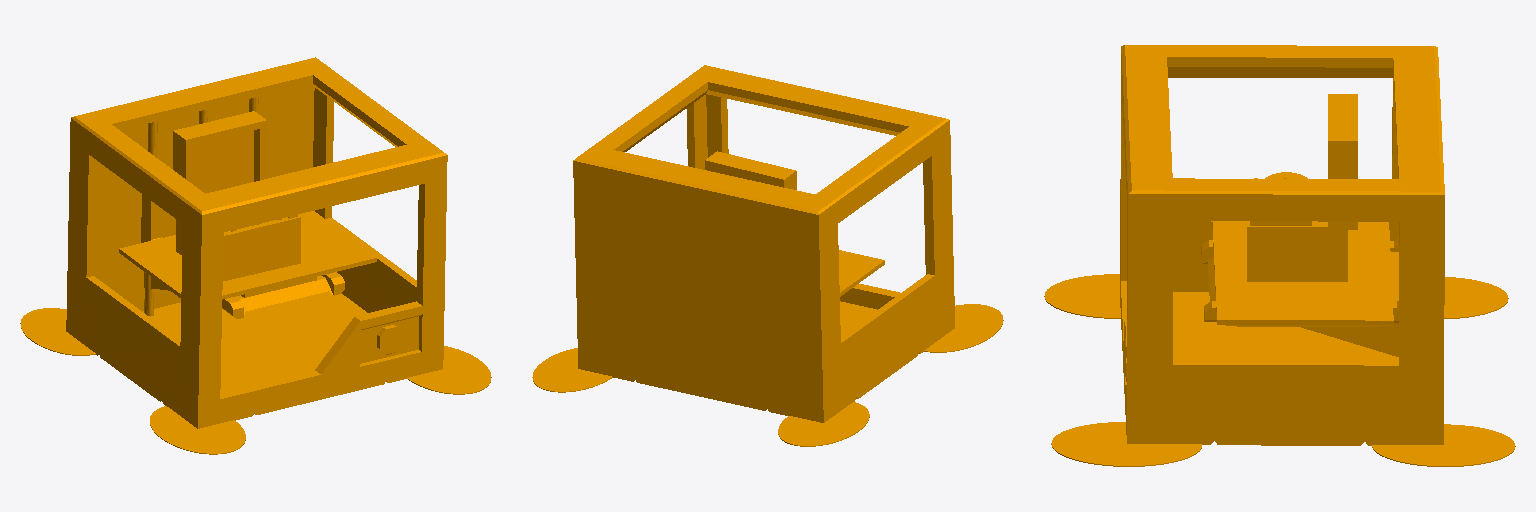
robot.urdf — apple:
<?xml version="1.0" encoding="utf-8"?>
<robot name="apple">
  <link name="base_link">
    <contact>
      <lateral_friction value="0.5"/>
      <rolling_friction value="0.0"/>
      <contact_cfm value="0.0"/>
      <contact_erp value="1.0"/>
    </contact>
    <inertial>
      <origin rpy="0 0 0" xyz="0 0 0"/>
      <mass value="0"/>
      <inertia ixx="0" ixy="0" ixz="0" iyy="0" iyz="0" izz="0"/>
    </inertial>
    <visual>
      <origin rpy="0 0 0" xyz="0 0 0"/>
      <geometry>
        <mesh filename="models/meshes/3d_printer/3d_printer.obj" scale="0.005 0.005 0.005"/>
      </geometry>
      <material name="hi">
        <color rgba="0.976 0.651 0 1"/>
      </material>
    </visual>
    <collision>
      <origin rpy="0 0 0" xyz="0 0 0"/>
      <geometry>
        <mesh filename="models/meshes/3d_printer/3d_printer.obj" scale="0.001 0.001 0.001"/>
      </geometry>
    </collision>
  </link>
</robot>

--- What the picture shows (computed from the rendered views, not written in the file) ---
3 views of the same robot in one strip: view 1: azimuth 30°, elevation 25°; view 2: azimuth 150°, elevation 25°; view 3: azimuth 270°, elevation 25° (orthographic).
Robot: apple — 1 links, 0 joints (none); root link base_link; default pose: every joint at zero.
Visible links, largest first — view 1: base_link; view 2: base_link; view 3: base_link.
Boxes of the visible links, <box> form: base_link: <box>20,57,491,454</box>; base_link: <box>532,65,1003,446</box>; base_link: <box>1044,45,1515,466</box>.
Bounding box of the posed robot: 0.6794 × 0.7213 × 0.4404 m (x, y, z).
1 mesh visuals loaded from 1 distinct referenced files (1 OBJ).